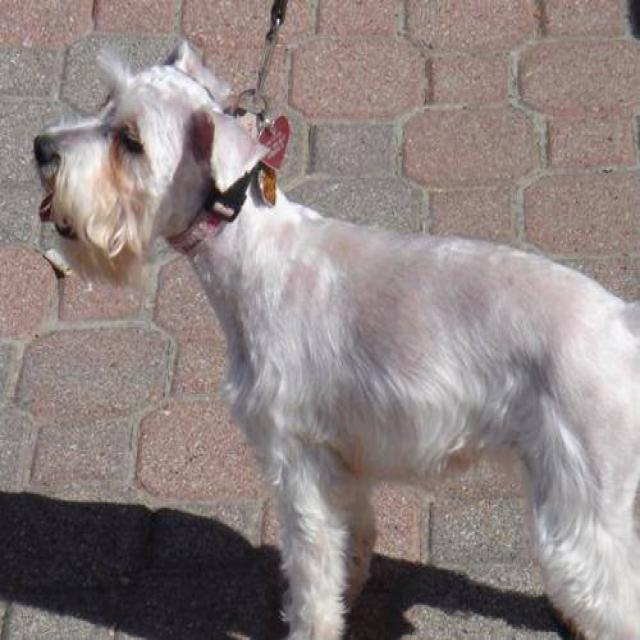dog: (32, 35, 639, 638)
